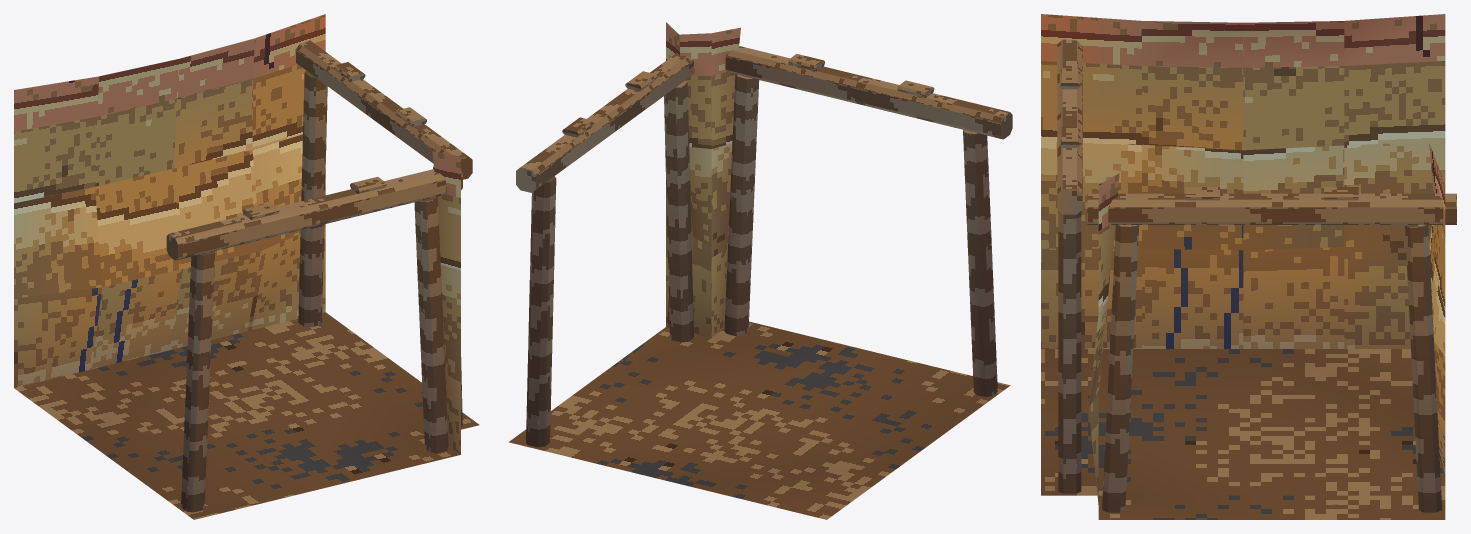
File: wmine.tunnel__corner.glb
3 renders of one model, left to right at view 1: azimuth 30°, elevation 25°; view 2: azimuth 150°, elevation 25°; view 3: azimuth 270°, elevation 25°, orthographic. The views are drawn at different scales.
Visible parts, largest first — view 1: kit_shell_walls, kit_shell_floor, kit_sets, kit_caps, kit_wedges; view 2: kit_shell_floor, kit_sets, kit_caps, kit_shell_walls, kit_wedges; view 3: kit_shell_walls, kit_shell_floor, kit_sets, kit_caps, kit_wedges.
Boxes of the visible parts, x1,y1,x2,y2 form: kit_shell_walls: [14, 14, 460, 454]; kit_shell_floor: [14, 312, 479, 519]; kit_sets: [181, 70, 462, 512]; kit_caps: [166, 40, 472, 260]; kit_wedges: [243, 62, 426, 219]; kit_shell_floor: [509, 321, 1010, 519]; kit_sets: [526, 74, 997, 447]; kit_caps: [516, 46, 1012, 192]; kit_shell_walls: [666, 22, 740, 337]; kit_wedges: [562, 54, 934, 137]; kit_shell_walls: [1041, 14, 1445, 504]; kit_shell_floor: [1041, 349, 1445, 519]; kit_sets: [1058, 211, 1441, 512]; kit_caps: [1057, 39, 1456, 224]; kit_wedges: [1059, 68, 1358, 200].
Size of the model in its own units: 3.6 by 3.2 by 3.6.
5 materials, 5 textured.
